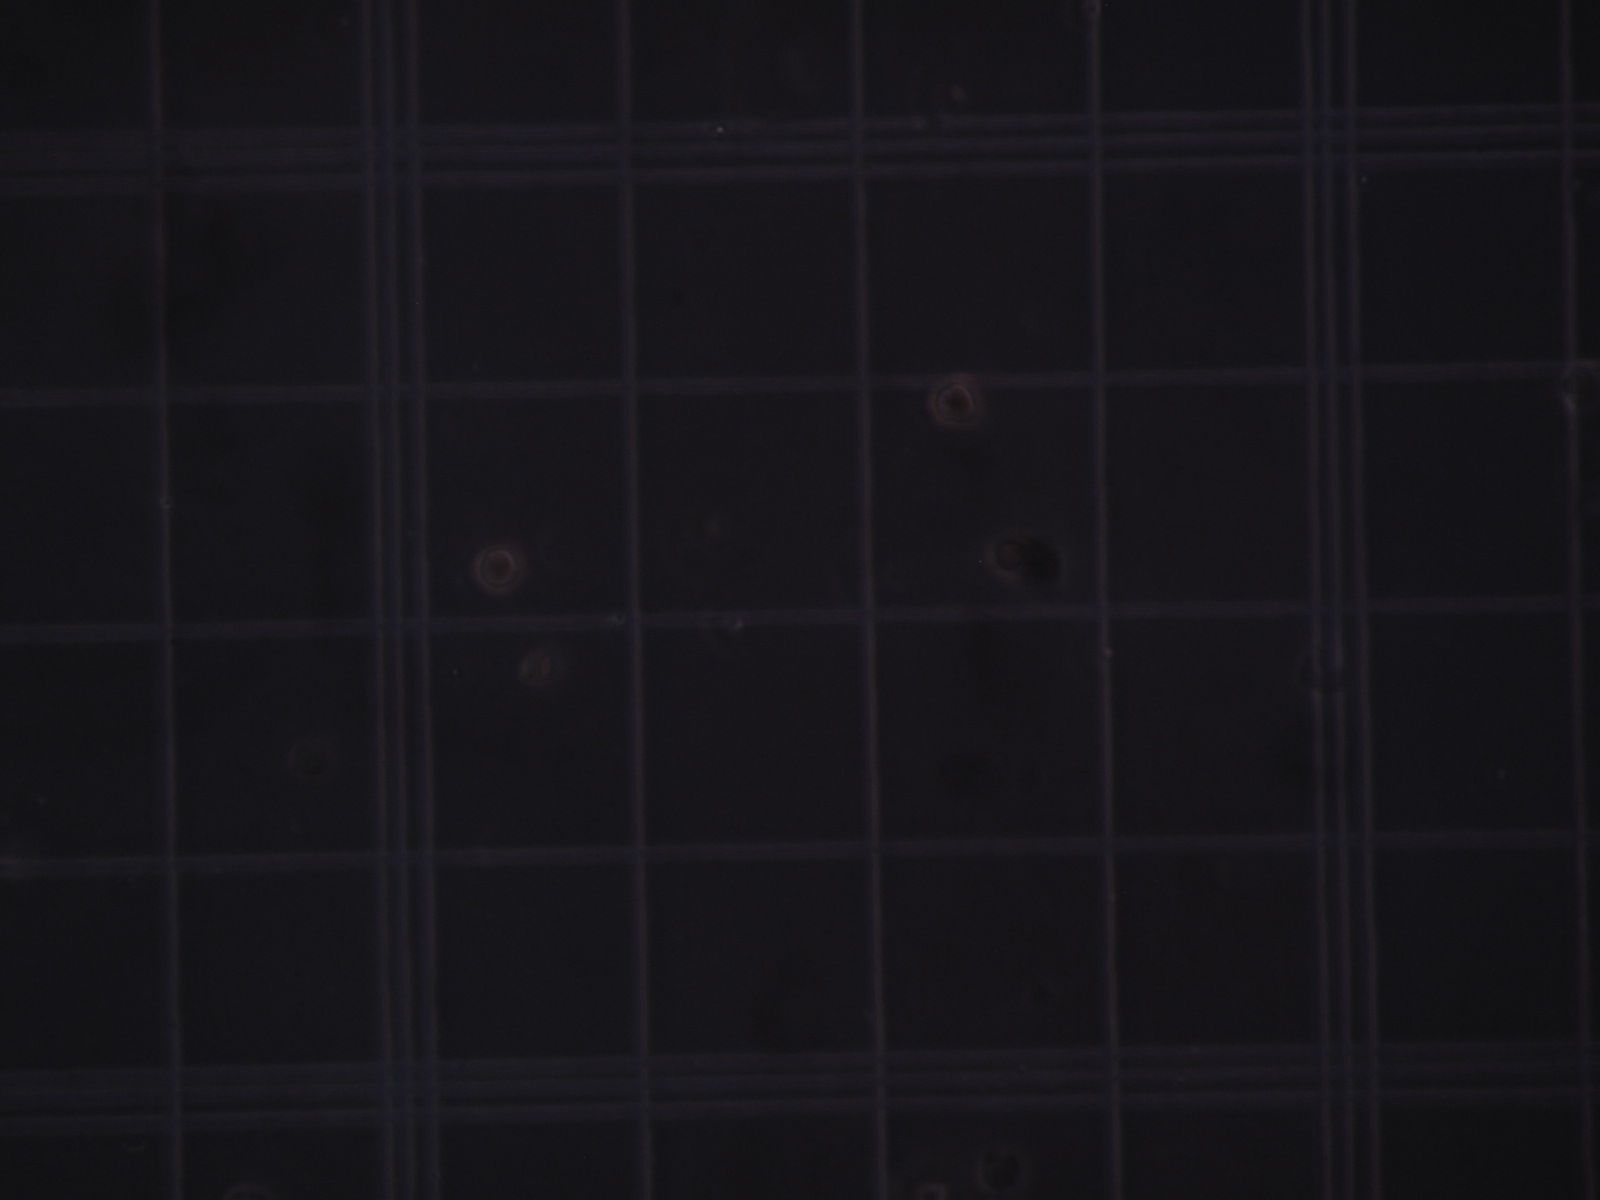hemo: (929, 372, 988, 431), (472, 539, 528, 596), (522, 643, 573, 689)
